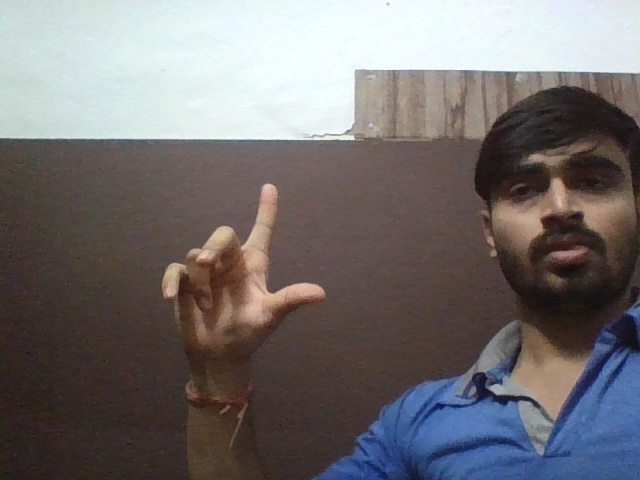L: (140, 175, 345, 355)
